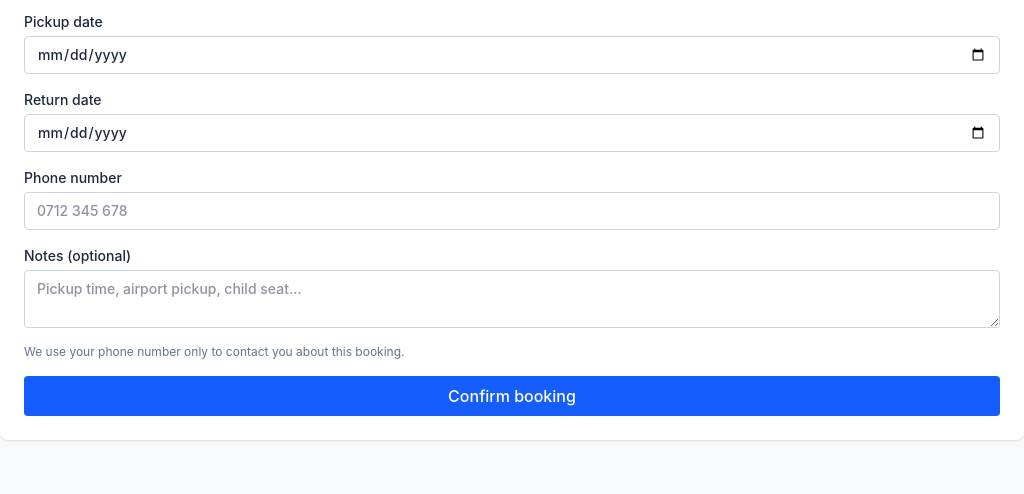
Test case: BookingForm › shows an error when submitted without dates
The width and height of the screenshot is (1024, 494).
Step 1. Click the button "Confirm booking" → [512, 396], box [24, 376, 1000, 416]
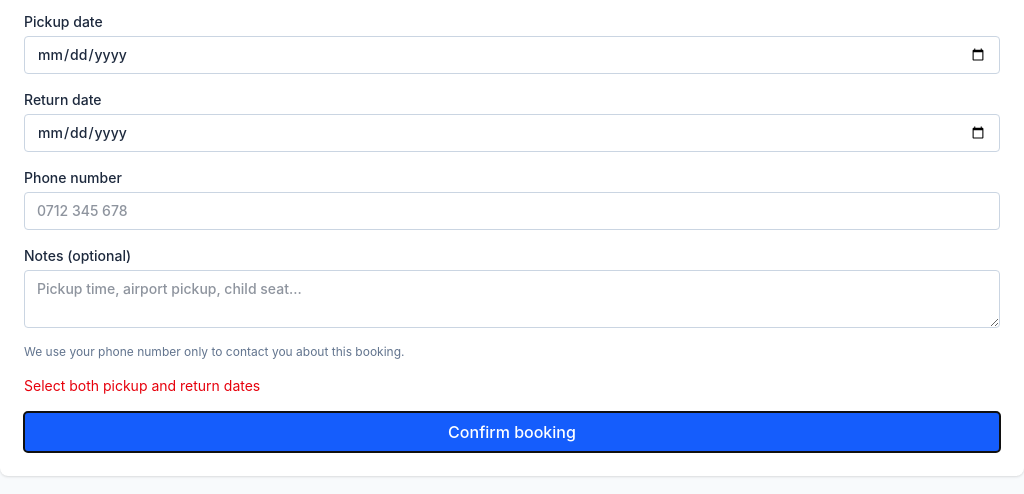
Expected: the message shows "both", [24, 377, 260, 394]
